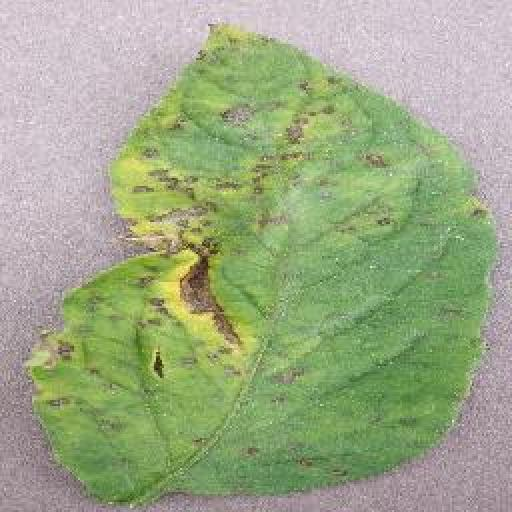Septoria: (26, 23, 500, 504)
